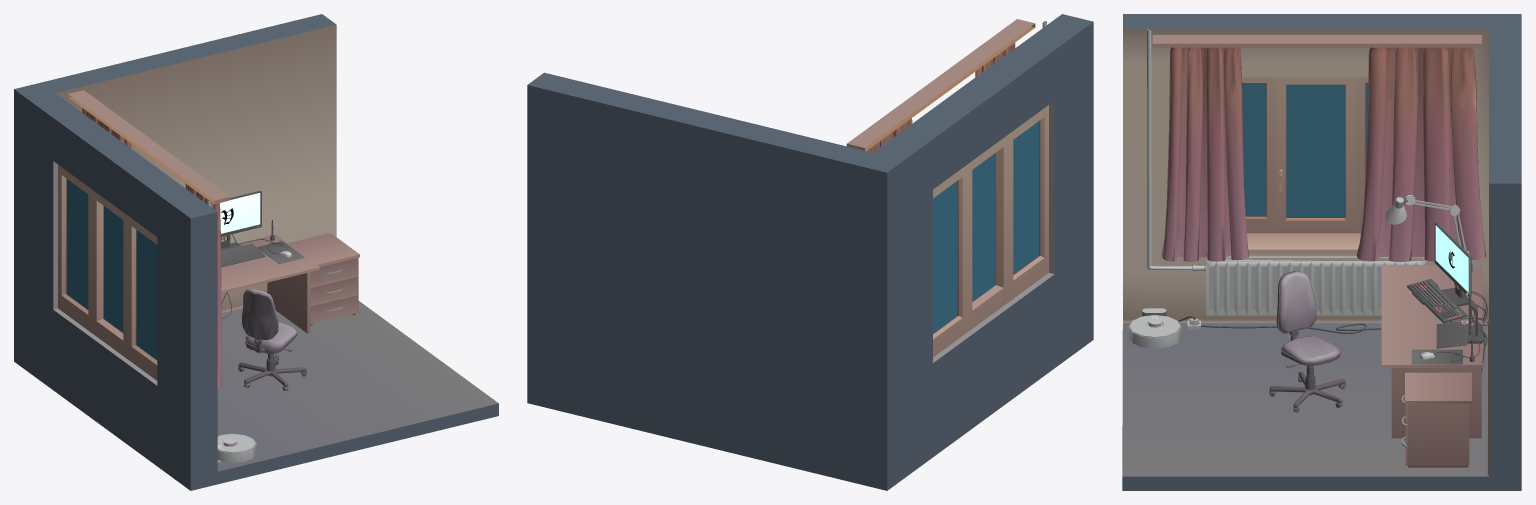
The model's file is optimized-room.glb.
3 views of the same model, side by side, from view 1: azimuth 30°, elevation 25°; view 2: azimuth 150°, elevation 25°; view 3: azimuth 270°, elevation 25° (orthographic). The views are drawn at different scales.
Visible parts, largest first — view 1: body1, window4, window, table, cabin, railing, chair_body, _________6_blinn1_0, emis, vacuum1, pillows, tablet (+1 smaller); view 2: body1, window4, window, railing; view 3: body1, _________6_blinn1_0, window4, window, radiator, table, cabin, railing, pillows, vacuum1, chair_body, radiator_blinn1_0.001 (+8 smaller).
Part boxes in pixels (bbox=[...]): body1: bbox=[14, 14, 498, 490]; window4: bbox=[66, 179, 157, 359]; window: bbox=[58, 165, 157, 380]; table: bbox=[221, 234, 319, 333]; cabin: bbox=[287, 233, 359, 325]; railing: bbox=[68, 90, 229, 204]; chair_body: bbox=[238, 290, 306, 390]; _________6_blinn1_0: bbox=[82, 108, 222, 387]; emis: bbox=[218, 193, 281, 447]; vacuum1: bbox=[217, 434, 256, 462]; pillows: bbox=[245, 289, 296, 349]; tablet: bbox=[221, 243, 265, 266]; body1: bbox=[527, 14, 1093, 490]; window4: bbox=[933, 121, 1039, 333]; window: bbox=[933, 105, 1048, 357]; railing: bbox=[846, 19, 1035, 151]; body1: bbox=[1122, 14, 1521, 490]; _________6_blinn1_0: bbox=[1161, 47, 1486, 261]; window4: bbox=[1242, 82, 1368, 217]; window: bbox=[1242, 77, 1368, 253]; radiator: bbox=[1206, 256, 1426, 315]; table: bbox=[1381, 265, 1482, 438]; cabin: bbox=[1405, 372, 1471, 467]; railing: bbox=[1152, 35, 1481, 47]; pillows: bbox=[1278, 271, 1339, 362]; vacuum1: bbox=[1128, 308, 1198, 348]; chair_body: bbox=[1269, 271, 1345, 412]; radiator_blinn1_0.001: bbox=[1147, 28, 1205, 271].
Size of the model in its own units: 6.68 by 5.66 by 6.65.
5 materials, 1 textured.
